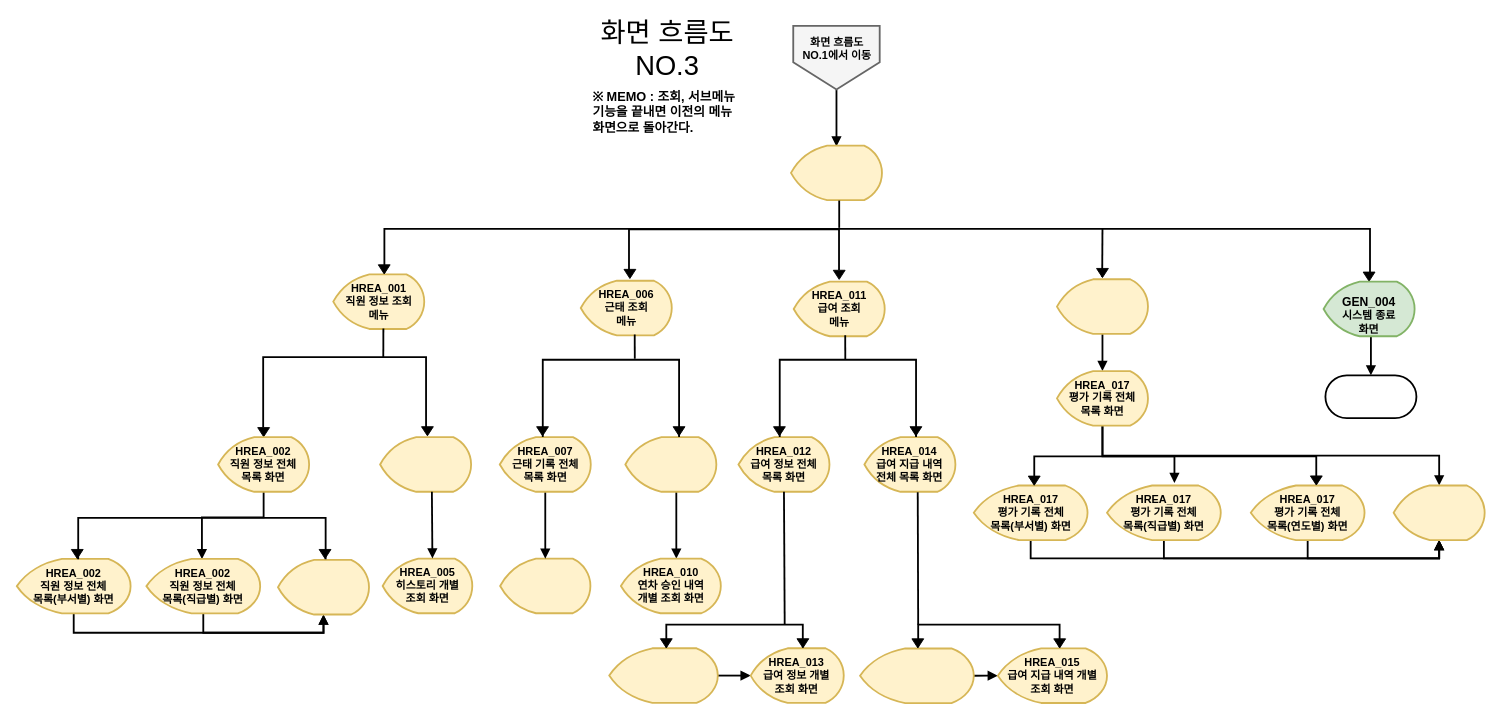
Image size: 1501x720. Some labels were removed from this diagram. The centre of each missing label's shape, as x and y in pixels:
HREA_000 인사팀 열람자 메뉴: the point at 836,172
HREA_003 직원 정보 개별 조회 화면: the point at 323,587
HREA_004 히스토리 전체 목록 화면: the point at 425,464
HREA_008 근태 기록 개별 조회 화면: the point at 545,585
HREA_009 연차 승인 내역 전체 목록 화면: the point at 670,464
HREA_012 급여 정보 전체 목록(기본급) 화면: the point at 663,675
HREA_014 급여 지급 내역 전체 목록(기본급) 화면: the point at 916,675
HREA_016 인사고과 조회 메뉴: the point at 1102,306
HREA_018 평가 기록 개별 조회 화면: the point at 1438,512
종료: the point at 1370,396
